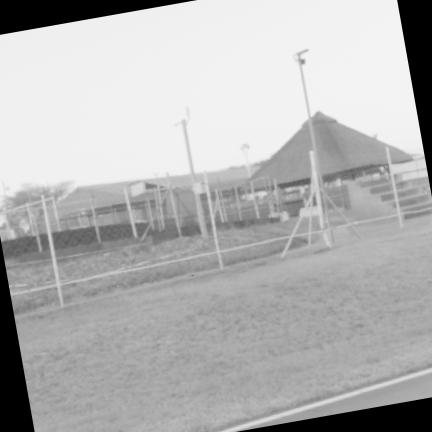Shahed: (185, 273, 197, 277)
